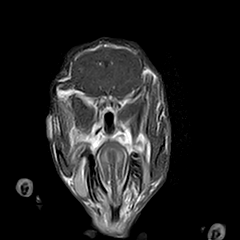Brain: (57, 15, 156, 113)
